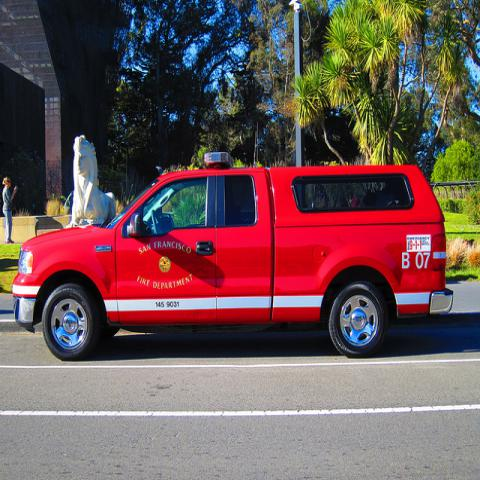truck: (12, 152, 452, 366)
